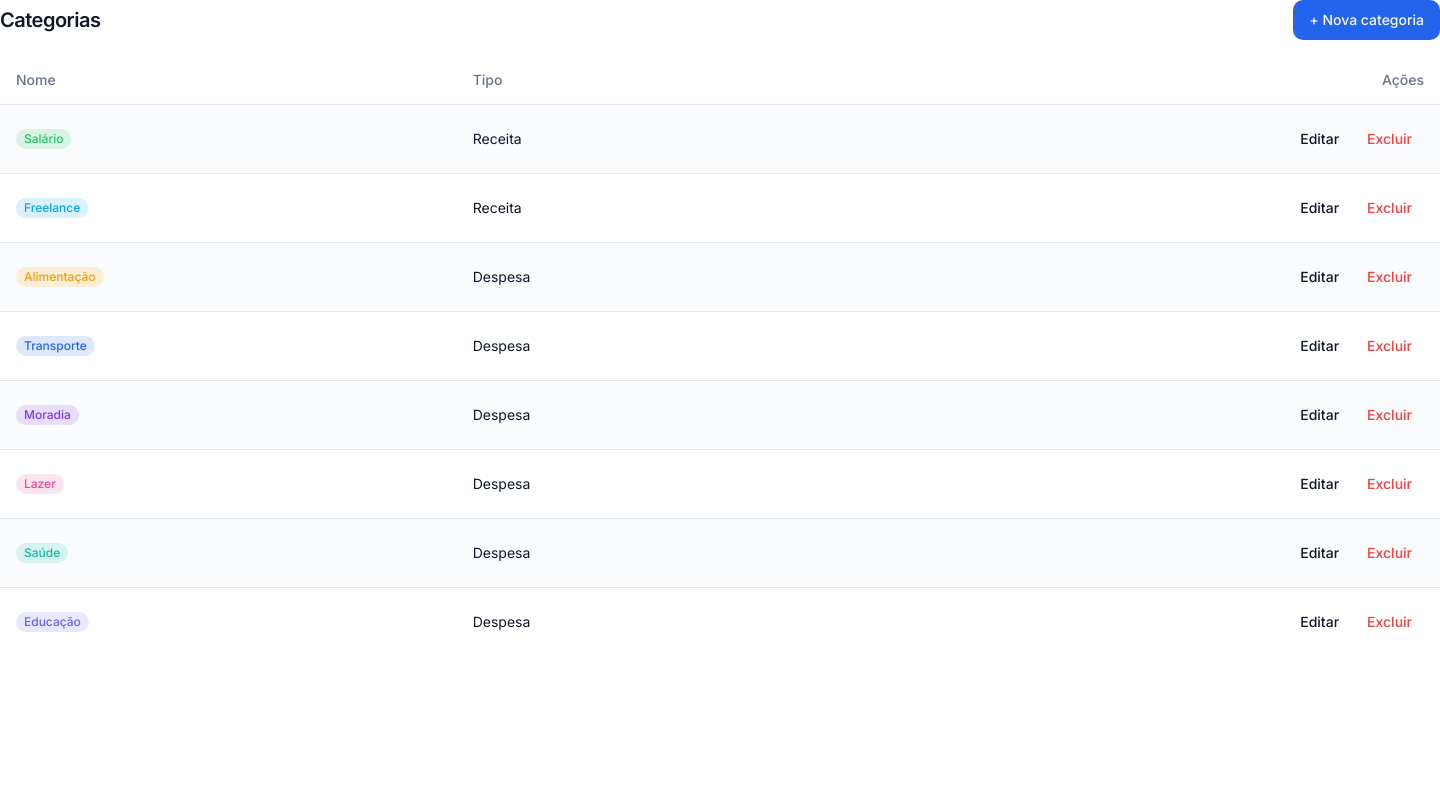
Test: CategoriesPage (AC-004, AC-006, AC-008) › cria uma categoria pelo modal
This screenshot has width=1440, height=810.
Click the button "+ Nova categoria": (1367, 20) [1293,0,1439,40]
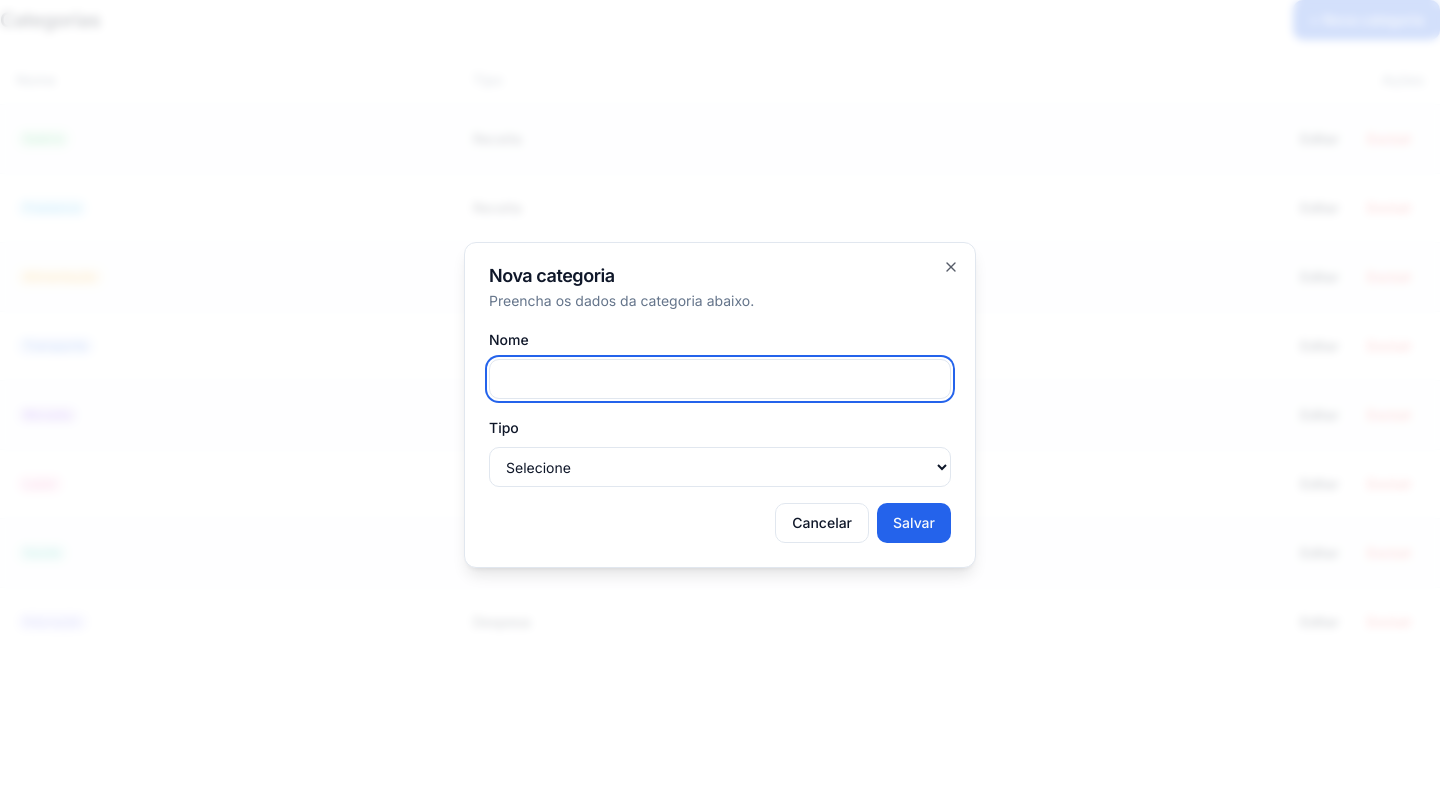
In the field labelled "Nome": (720, 379) [489,359,951,399], type "Pets"
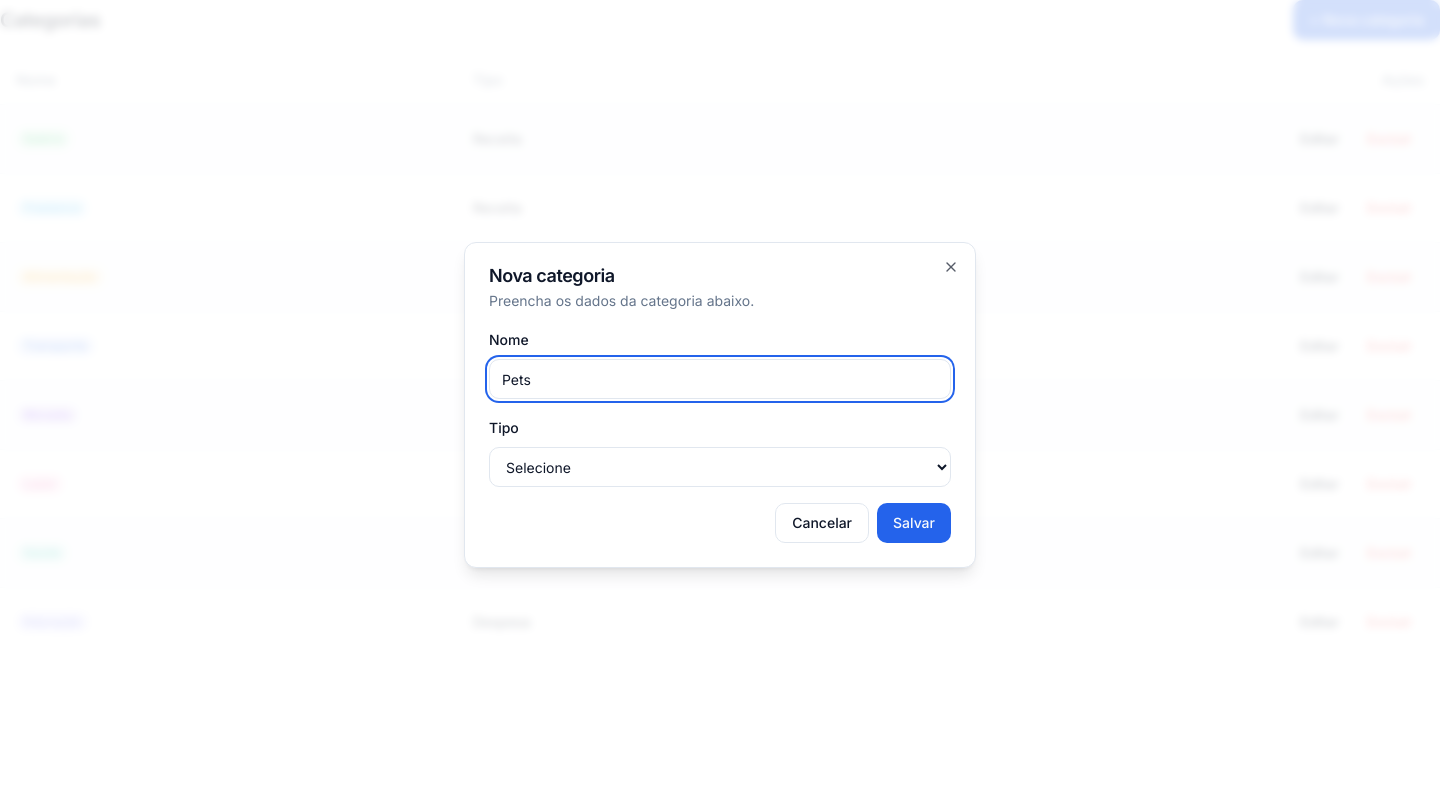
Select "Despesa" in the dropdown labelled "Tipo": (720, 467) [489,447,951,487]
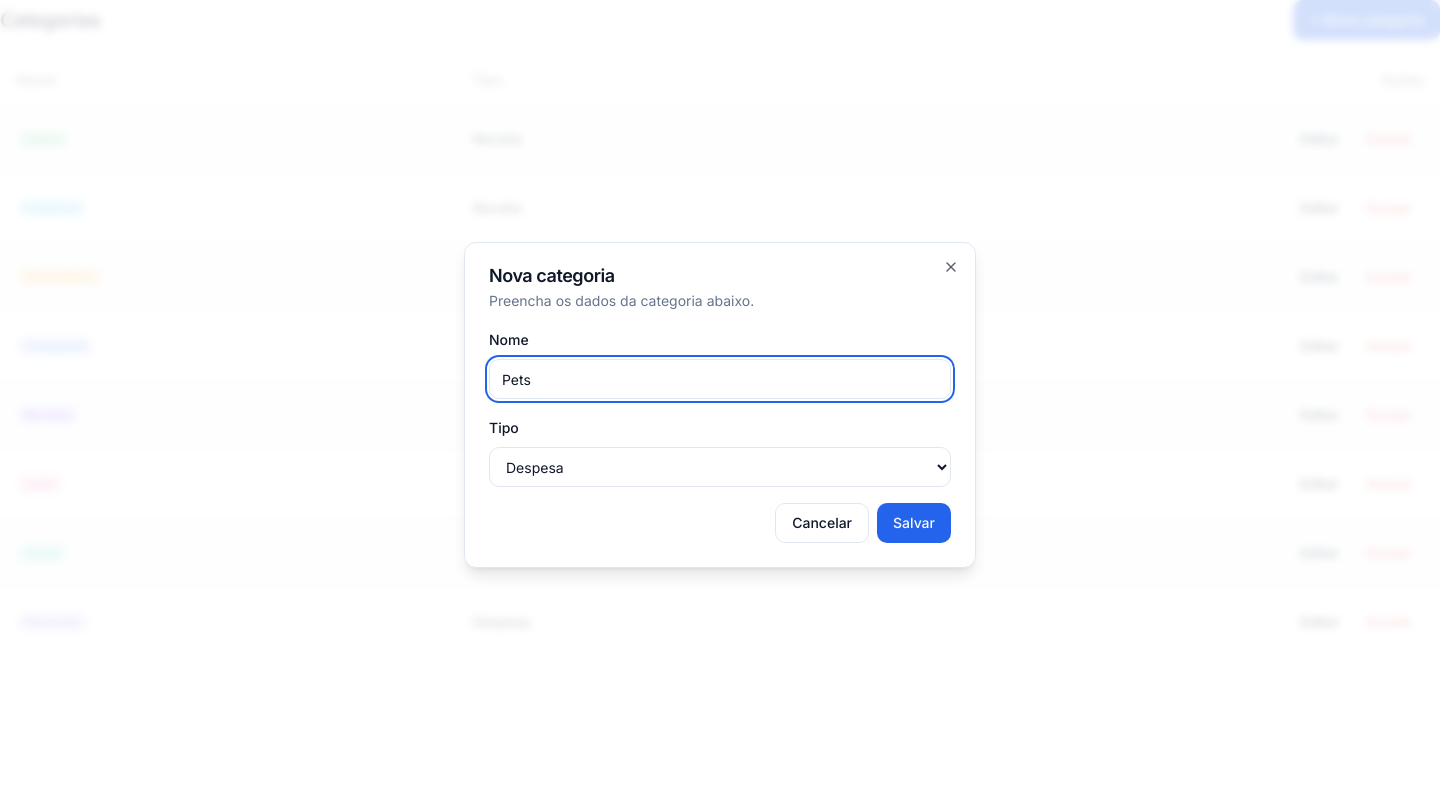
Click the button "Salvar": (914, 523) [877,503,951,543]
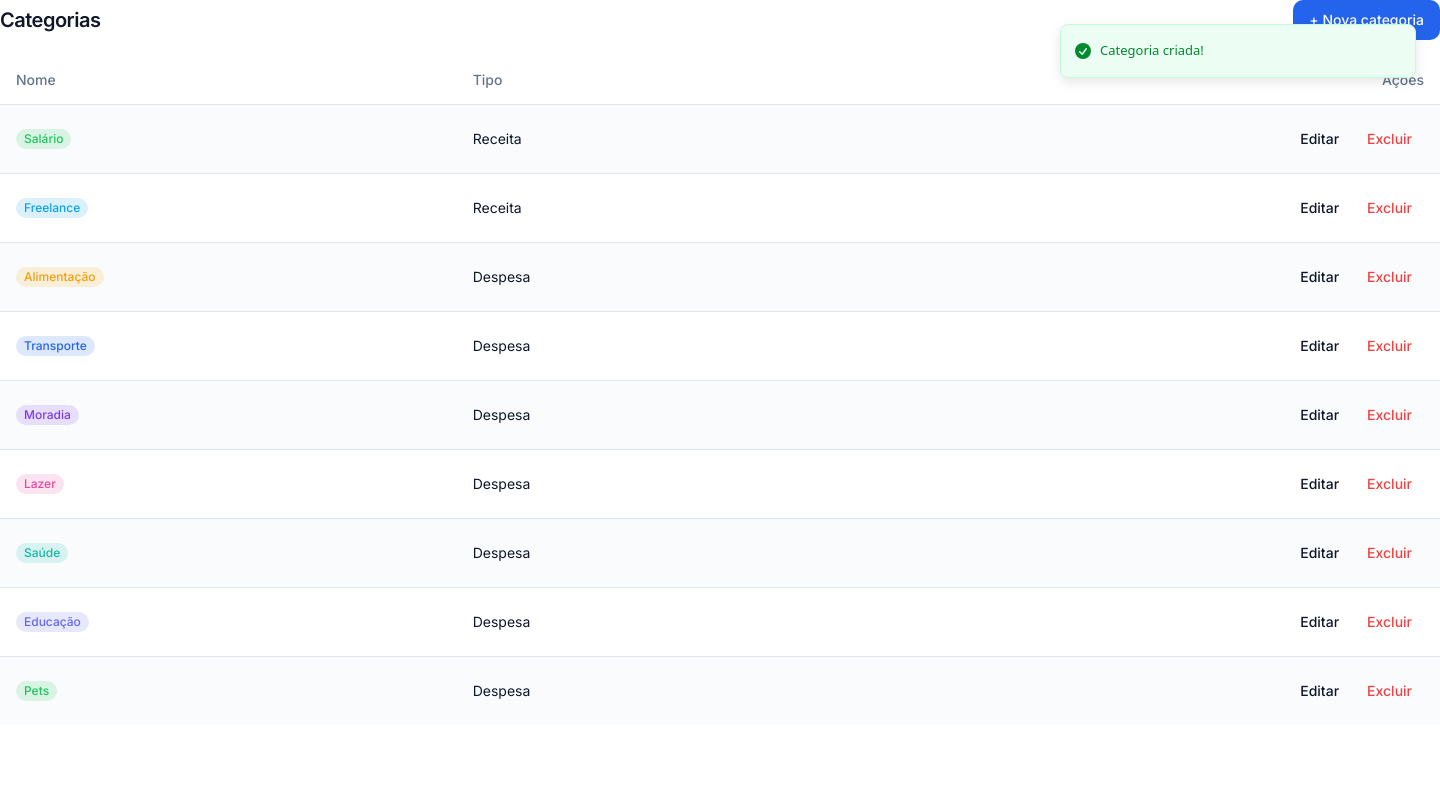
Check: the text "Pets" is shown, box [16,681,57,701]
